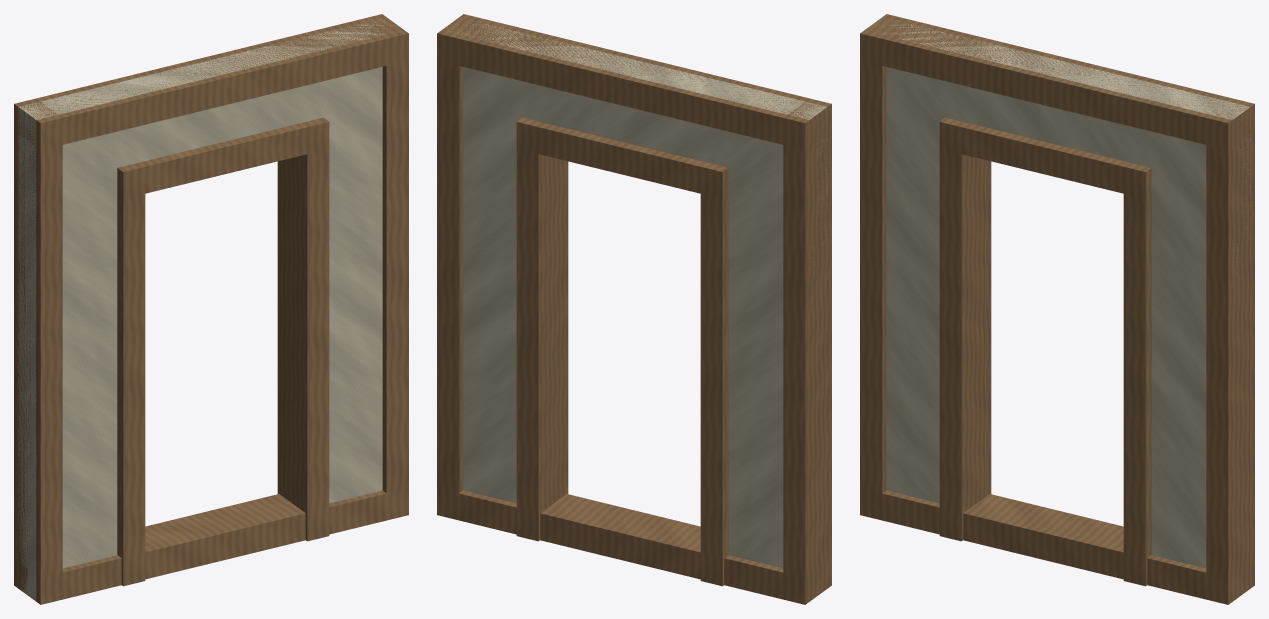
File: wall_door_2m.glb
The picture shows the model from 3 angles, left to right: view 1: azimuth 30°, elevation 25°; view 2: azimuth 150°, elevation 25°; view 3: azimuth 330°, elevation 25°; orthographic projection.
Visible parts, largest first — view 1: wall_door_2m; view 2: wall_door_2m; view 3: wall_door_2m.
Part boxes in pixels (x1,y1,x2,y2): wall_door_2m: (14, 14, 408, 604); wall_door_2m: (437, 14, 831, 604); wall_door_2m: (860, 14, 1254, 604).
Size of the model in its own units: 2 by 2.5 by 0.28.
Materials: 2 (2 with a texture image).
